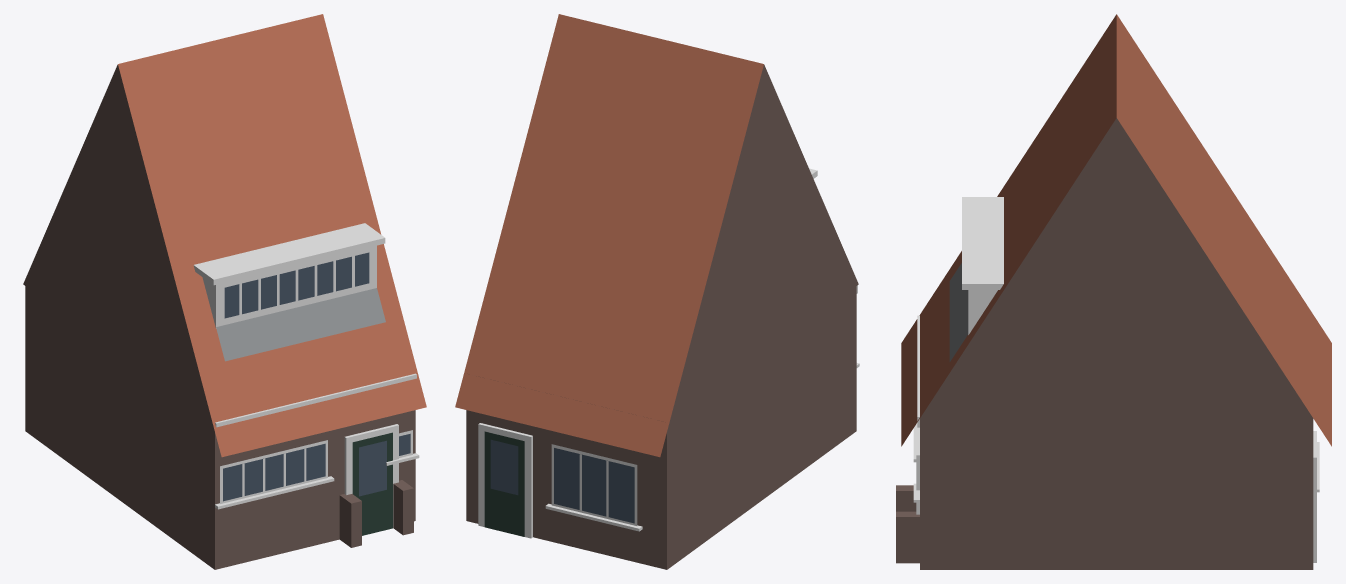
The model's file is nn-cottage__green-door__2__gable__long__solid.glb.
The picture shows the model from 3 angles, left to right: view 1: azimuth 30°, elevation 25°; view 2: azimuth 150°, elevation 25°; view 3: azimuth 270°, elevation 25°; orthographic projection. The views are drawn at different scales.
Parts seen in each view (by area): view 1: nn-cottage__green-door__2__gable__long__solid; view 2: nn-cottage__green-door__2__gable__long__solid; view 3: nn-cottage__green-door__2__gable__long__solid.
Boxes of the visible parts, left/top/right/bottom form: nn-cottage__green-door__2__gable__long__solid: left=23, top=14, right=426, bottom=569; nn-cottage__green-door__2__gable__long__solid: left=455, top=14, right=859, bottom=569; nn-cottage__green-door__2__gable__long__solid: left=896, top=14, right=1331, bottom=569.
Bounding box in the file's own units: 4.59 × 9.34 × 8.14.
